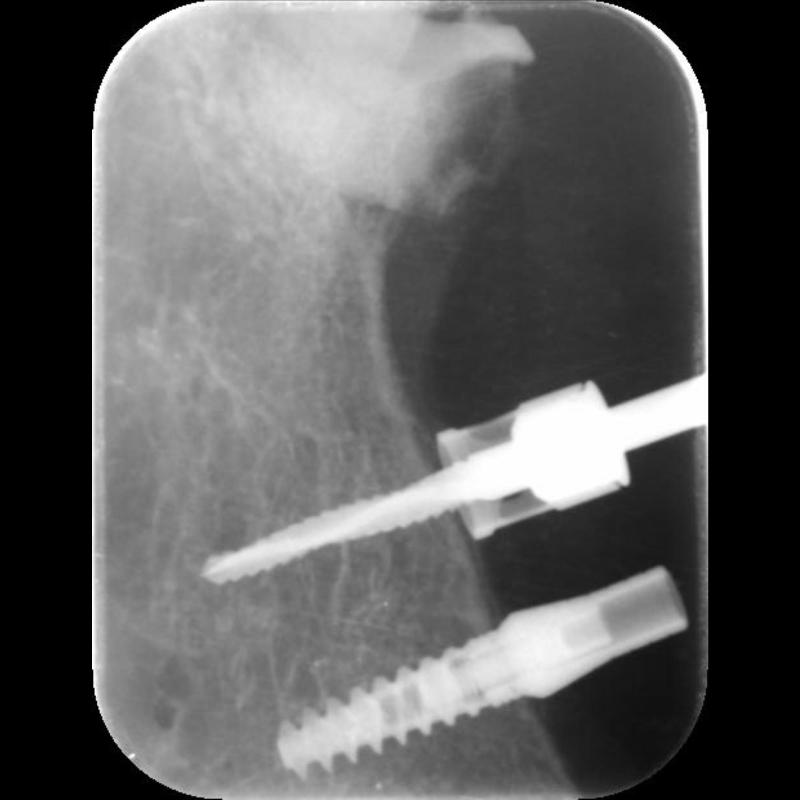ADIN: (274, 618, 512, 786)
